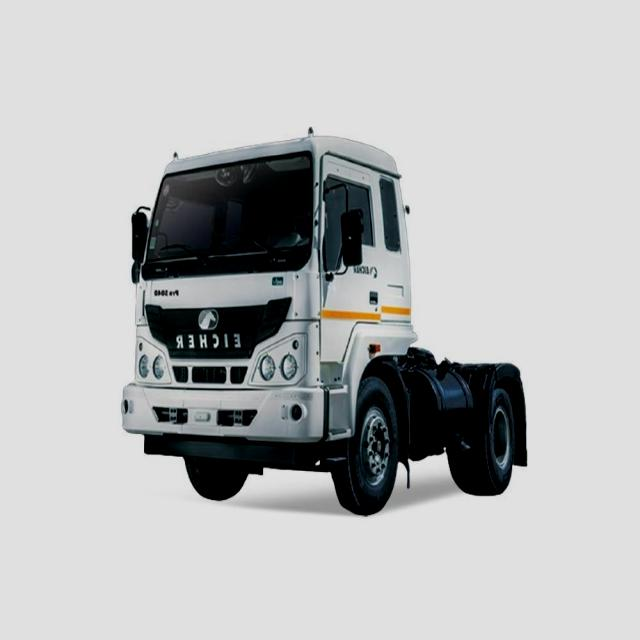Truck: (117, 125, 528, 517)
